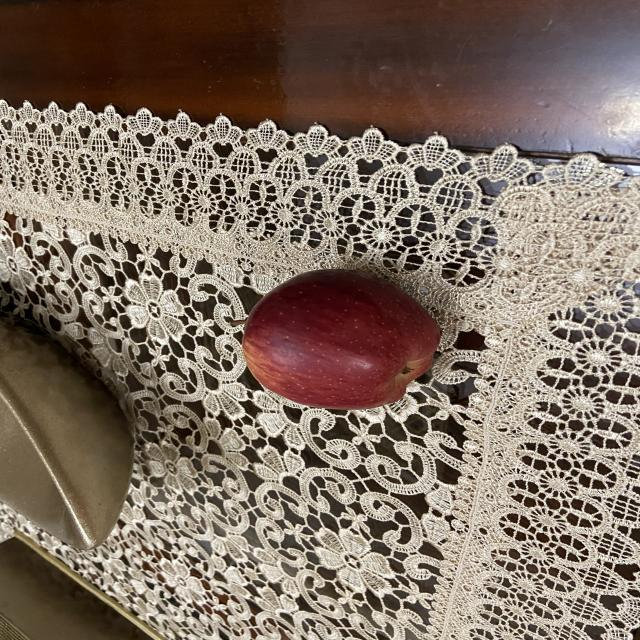apple: (238, 267, 447, 415)
